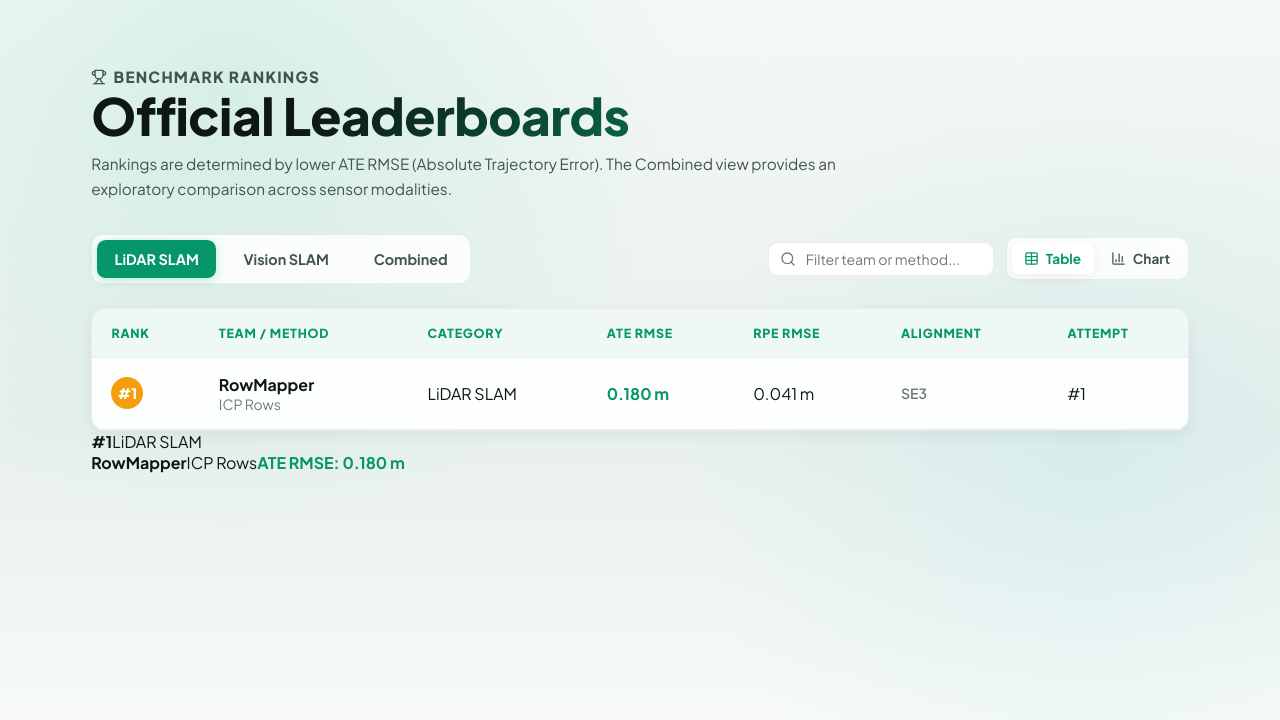
it: Leaderboard › selects a category with an accessible tab and updates its panel
The width and height of the screenshot is (1280, 720).
Click the tab "Vision SLAM" at (286, 259), box top-left (226, 240), bottom-right (347, 278)
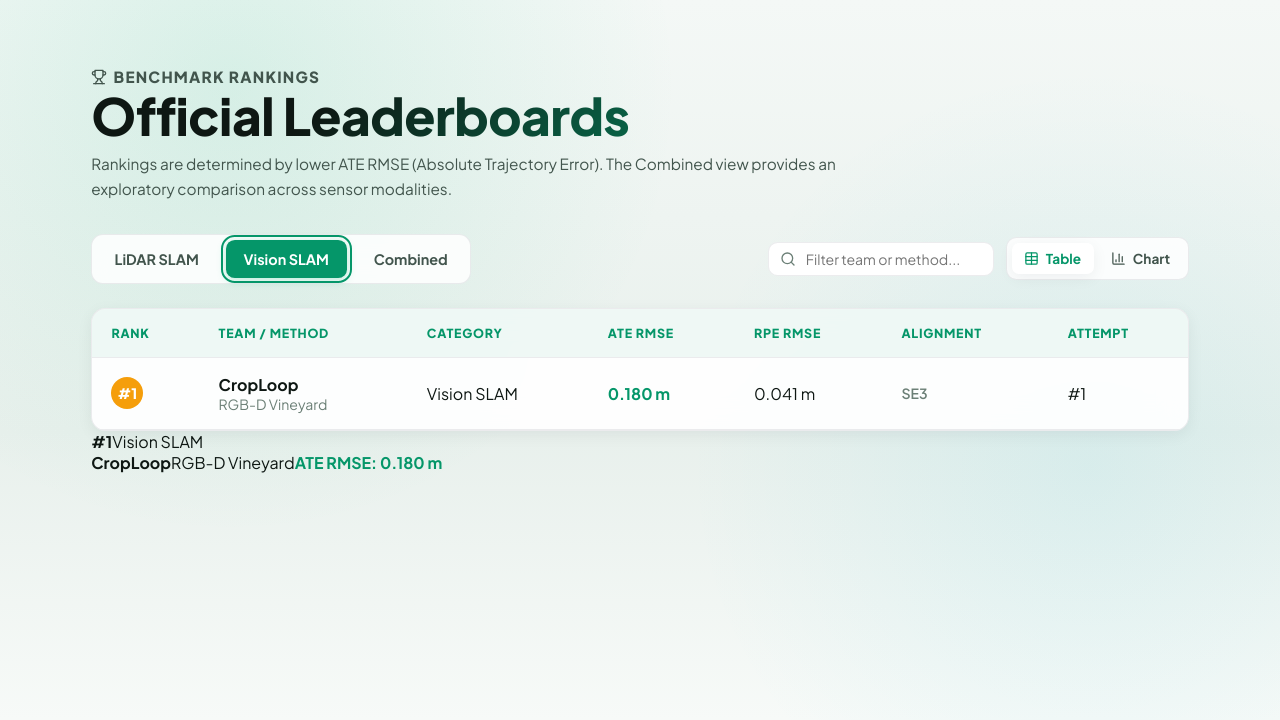
Expected: the panel named "Vision SLAM" shows "CropLoop", top-left (219, 374), bottom-right (298, 395)
